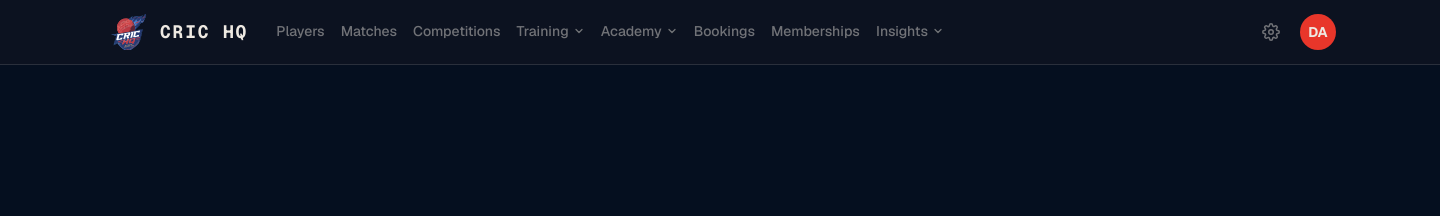
Scenario: NavBar › the header shows only the avatar — name/email/role live inside the account menu, not next to it
expect the text "Dev Admin" is not shown: met
expect the text "dev@example.com" is not shown: met
Click the button titled "Account menu": (1318,32) [1300,14,1336,50]
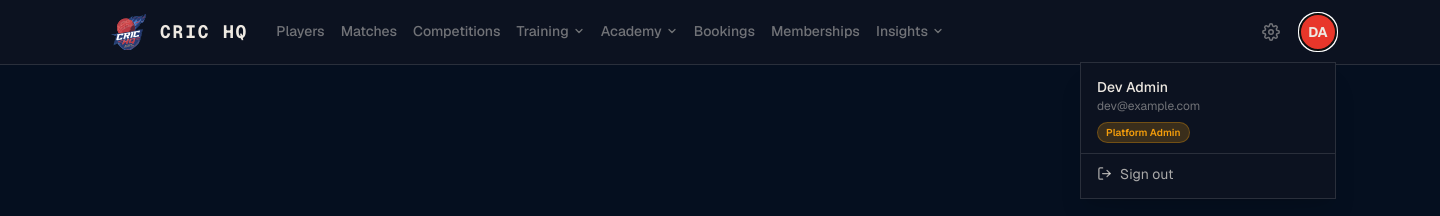
expect the text "Dev Admin" is shown: met, box [1097,78,1168,96]
expect the text "dev@example.com" is shown: met, box [1097,98,1200,114]
expect the text "Platform Admin" is shown: met, box [1097,122,1190,142]
